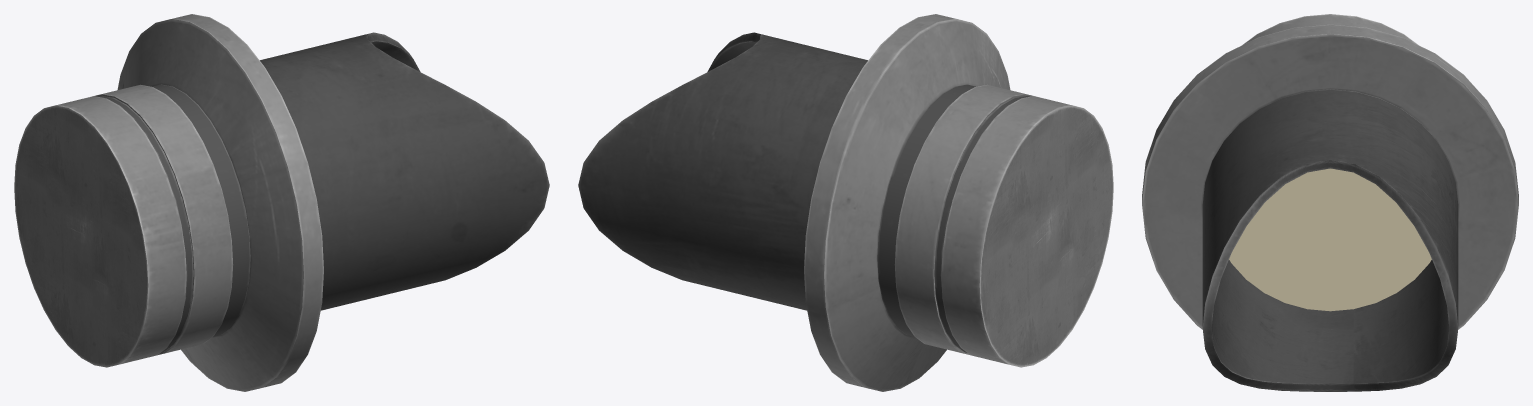
The model's file is guard_6_c_a.glb.
3 views of the same model, side by side, from view 1: azimuth 30°, elevation 25°; view 2: azimuth 150°, elevation 25°; view 3: azimuth 270°, elevation 25° (orthographic).
Parts seen in each view (by area): view 1: guard_6_c_a_lod0; view 2: guard_6_c_a_lod0; view 3: guard_6_c_a_lod0.
Boxes of the visible parts, bbox=[...] form: guard_6_c_a_lod0: bbox=[14, 14, 549, 391]; guard_6_c_a_lod0: bbox=[578, 14, 1113, 391]; guard_6_c_a_lod0: bbox=[1142, 14, 1518, 391].
Size of what is drawn, in the model's own units: 0.0477 by 0.0391 by 0.0391.
1 material, 1 textured.
